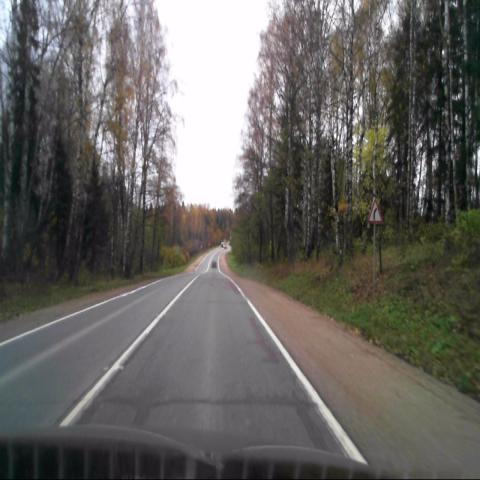1_11: (369, 199, 382, 224)
